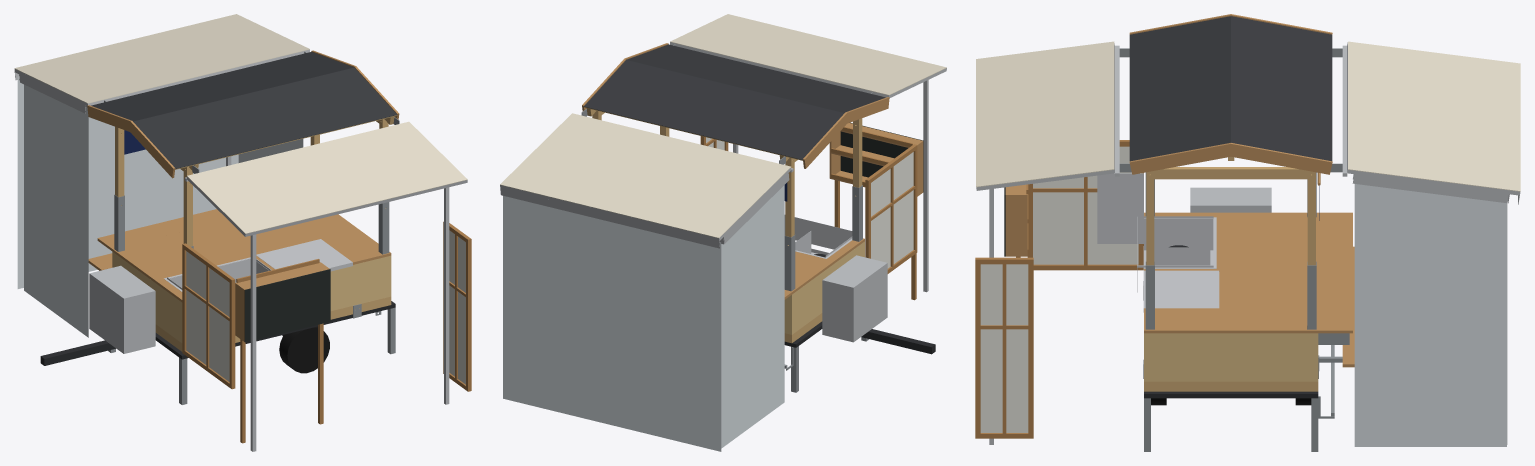
3 renders of one model, left to right at view 1: azimuth 30°, elevation 25°; view 2: azimuth 150°, elevation 25°; view 3: azimuth 270°, elevation 25°, orthographic. The views are drawn at different scales.
Visible parts, largest first — view 1: b106, b290, b231, b194, b229, b75, b283, b341, b319, b48, b313, b318 (+26 smaller); view 2: b229, b194, b106, b231, b290, b283, b319, b206, b52, b318, b341, b308 (+13 smaller); view 3: b233, b106, b194, b290, b75, b313, b319, b56, b79, b323, b50, b112 (+23 smaller).
Part boxes in pixels (box(x1,y1,x2,y2)): b106: box(91, 52, 396, 168); b290: box(187, 121, 467, 233); b231: box(24, 84, 88, 337); b194: box(14, 14, 309, 103); b229: box(17, 77, 238, 288); b75: box(112, 214, 391, 302); b283: box(89, 265, 155, 353); b341: box(244, 269, 330, 342); b319: box(186, 251, 229, 381); b48: box(330, 255, 391, 309); b313: box(449, 230, 465, 384); b318: box(182, 243, 235, 389); b229: box(503, 196, 721, 451); b194: box(500, 113, 790, 238); b106: box(584, 44, 885, 159); b231: box(721, 185, 784, 448); b290: box(670, 14, 946, 95); b283: box(822, 255, 887, 342); b319: box(871, 152, 913, 268); b206: box(500, 188, 724, 248); b52: box(792, 242, 864, 332); b318: box(865, 144, 917, 273); b341: box(840, 122, 923, 191); b308: box(923, 80, 928, 292); b233: box(1354, 184, 1506, 446); b106: box(1129, 16, 1332, 161); b194: box(1348, 41, 1520, 191); b290: box(976, 41, 1114, 187); b75: box(1144, 212, 1318, 333); b313: box(980, 264, 1028, 432); b319: box(1033, 146, 1138, 264); b56: box(1155, 333, 1290, 369); b79: box(1318, 212, 1352, 333); b323: box(1097, 173, 1143, 243); b50: box(1145, 333, 1316, 380); b112: box(1129, 143, 1332, 174).
Size of the model in its own units: 3750 by 2912 by 4691.
